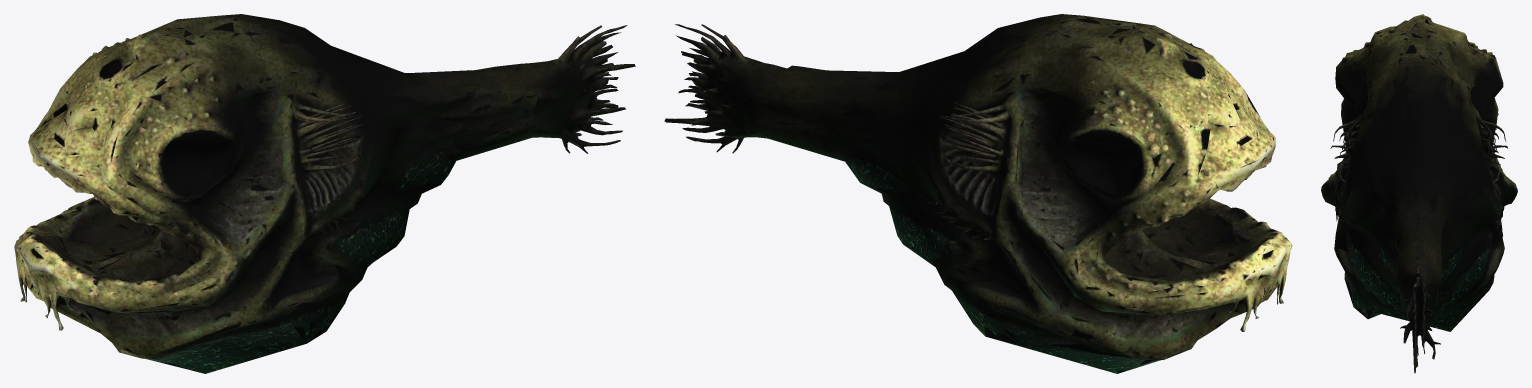
Rendered from abyss-spinefish-lod.glb.
3 views of the same model, side by side, from view 1: azimuth 30°, elevation 25°; view 2: azimuth 150°, elevation 25°; view 3: azimuth 270°, elevation 25° (orthographic). The views are drawn at different scales.
Parts seen in each view (by area): view 1: FishLOW_0; view 2: FishLOW_0; view 3: FishLOW_0.
Boxes of the visible parts, x1,y1,x2,y2 form: FishLOW_0: [14, 14, 635, 373]; FishLOW_0: [664, 14, 1292, 373]; FishLOW_0: [1321, 14, 1517, 373].
Size of the model in its own units: 16.89 by 9.25 by 6.03.
1 material, 1 textured.
